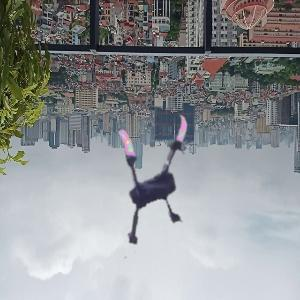drone: (79, 108, 219, 248)
